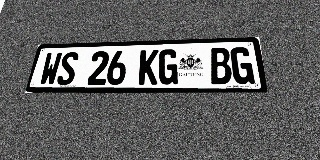2: (87, 51, 110, 85)
6: (106, 50, 128, 85)
B: (209, 47, 232, 84)
G: (230, 47, 255, 84), (158, 49, 178, 85)
K: (138, 50, 159, 85)
S: (56, 52, 79, 85)
W: (38, 52, 63, 85)
